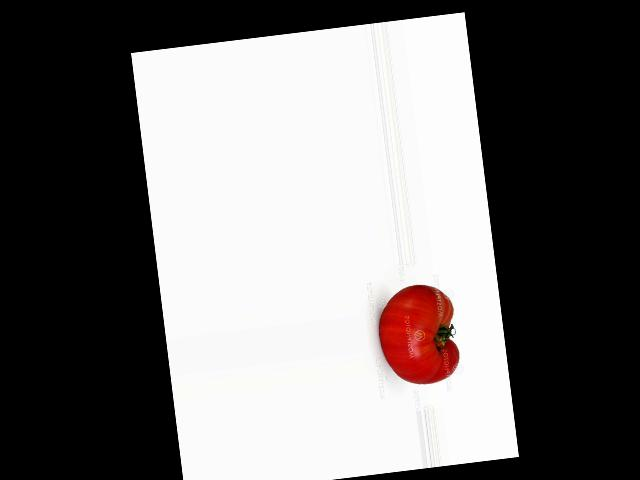tomato: (374, 280, 462, 388)
